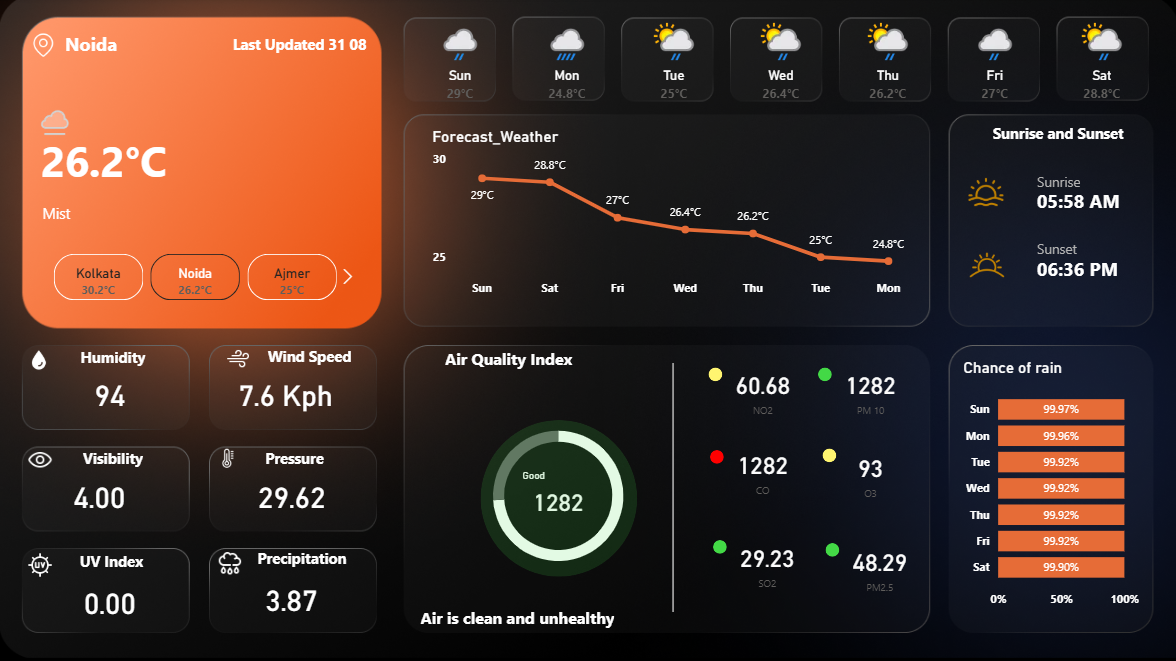

The dashboard page shown, as its layout file describes it:
{"tool":"powerbi","page":{"name":"Page 1","canvas":[1280,720],"ordinal":0},"visuals":[{"type":"advancedSlicerVisual","fields":{"Values":["Loaction.location.name"]},"box":[34.2,273.3,359.5,60.2],"z":0},{"type":"shape","box":[45.5,135,203.3,84.6],"z":1000},{"type":"shape","box":[47.2,219.6,201.7,27.7],"z":2000},{"type":"shape","box":[71.6,29.3,128.5,42.3],"z":3000},{"type":"shape","box":[242.4,32.5,156.1,35.8],"z":4000},{"type":"cardVisual","fields":{"Data":["Min(current_table.current.condition.icon)"]},"box":[17.9,94.3,89.5,79.7],"z":5000},{"type":"image","box":[26,34.2,43.9,35.8],"z":6000},{"type":"image","box":[232.6,479.8,30.9,40.7],"z":7000},{"type":"image","box":[19.5,481.5,50.4,40.7],"z":8000},{"type":"image","box":[19.5,377.4,47.2,32.5],"z":9000},{"type":"image","box":[226.1,593.7,48.8,40.7],"z":10000},{"type":"image","box":[19.5,596.9,50.4,37.4],"z":11000},{"type":"image","box":[232.6,374.1,53.7,35.8],"z":12000},{"type":"shape","box":[45.5,372.5,156.1,35.8],"z":13000},{"type":"shape","box":[250.5,590.4,156.1,35.8],"z":14000},{"type":"shape","box":[43.9,593.7,156.1,35.8],"z":15000},{"type":"shape","box":[242.4,481.5,156.1,35.8],"z":16000},{"type":"shape","box":[45.5,481.5,156.1,35.8],"z":17000},{"type":"shape","box":[258.6,370.9,156.1,35.8],"z":18000},{"type":"cardVisual","fields":{"Data":["Sum(current_table.current.humidity)"]},"box":[86.2,388.7,71.6,74.8],"z":19000},{"type":"cardVisual","fields":{"Data":["Measure.Wind_Speed"]},"box":[242.4,388.7,183.8,74.8],"z":20000},{"type":"cardVisual","fields":{"Data":["Sum(current_table.current.pressure_in)"]},"box":[263.5,499.3,109,74.8],"z":21000},{"type":"cardVisual","fields":{"Data":["Sum(current_table.current.vis_km)"]},"box":[63.4,499.3,109,74.8],"z":22000},{"type":"cardVisual","fields":{"Data":["Sum(current_table.current.uv)"]},"box":[74.8,614.8,94.3,74.8],"z":23000},{"type":"cardVisual","fields":{"Data":["Sum(current_table.current.precip_mm)"]},"box":[271.6,611.6,97.6,74.8],"z":24000},{"type":"advancedSlicerVisual","fields":{"Values":["forecast_table.Day_Name"]},"box":[440,15,820,120],"z":25000},{"type":"lineChart","title":"Forecast_Weather","fields":{"Y":["Sum(forecast_table.forecast.forecastday.day.avgtemp_c)"],"Category":["forecast_table.Day_Name"]},"box":[465,141.7,533.3,191.7],"z":26000},{"type":"shape","box":[1070,130,156.7,35],"z":27000},{"type":"shape","box":[1125,193.3,116.7,55],"z":28000},{"type":"shape","box":[1125,266.7,116.7,55],"z":29000},{"type":"shape","box":[1125,176.7,116.7,45],"z":30000},{"type":"shape","box":[1125,250,116.7,45],"z":31000},{"type":"image","box":[1046.7,183.3,48.3,55],"z":32000},{"type":"image","box":[1041.7,260,60,60],"z":33000},{"type":"hundredPercentStackedBarChart","title":"Chance of rain","fields":{"Y":["Measure.Left_Value_Rain","Sum(forecast.forecast.forecastday.day.daily_chance_of_rain)"],"Category":["forecast_table.Day_Name"]},"box":[1041.7,391.7,200,278.3],"z":34000},{"type":"shape","box":[465,373.3,175,35],"z":35000},{"type":"card","title":"PM 10","fields":{"Values":["Sum(current_table.current.air_quality.co)"]},"box":[891.7,383.3,106.7,86.7],"z":36000},{"type":"card","title":"O3","fields":{"Values":["Sum(current_table.current.air_quality.o3)"]},"box":[891.7,473.3,106.7,86.7],"z":37000},{"type":"card","title":"PM 2.5","fields":{"Values":["Sum(current_table.current.air_quality.pm2_5)"]},"box":[891.7,575,126.7,86.7],"z":38000},{"type":"card","title":"SO2","fields":{"Values":["Sum(current_table.current.air_quality.so2)"]},"box":[770,571.7,126.7,86.7],"z":39000},{"type":"card","title":"CO","fields":{"Values":["Sum(current_table.current.air_quality.co)"]},"box":[765,470,126.7,86.7],"z":40000},{"type":"card","title":"NO2","fields":{"Values":["Sum(current_table.current.air_quality.no2)"]},"box":[765,383.3,126.7,86.7],"z":41000},{"type":"shape","box":[770,401.7,15,15],"z":42000},{"type":"shape","box":[771.7,491.7,15,15],"z":43000},{"type":"shape","box":[775,588.3,15,15],"z":44000},{"type":"shape","box":[888.3,401.7,15,15],"z":45000},{"type":"shape","box":[893.3,490,15,15],"z":46000},{"type":"shape","box":[896.7,591.7,15,15],"z":47000},{"type":"donutChart","title":"PM 10","fields":{"Y":["Sum(current_table.current.air_quality.co)","Measure.Left_value_PM10"]},"box":[465,446.7,281.7,186.7],"z":48000},{"type":"card","fields":{"Values":["Sum(current_table.current.air_quality.co)"]},"box":[563.3,511.7,86.7,56.7],"z":49000},{"type":"shape","box":[521.7,458.3,170,170],"z":50000},{"type":"shape","box":[705,396.7,53.3,270],"z":51000},{"type":"shape","box":[456.7,655,300,35],"z":51001}]}

Visuals, with their boxes in screenshot pixels (x1, y1, x2, y2), scaled from the page's 1280x720 canvas onto the 1176x661 screenshot:
advancedSlicerVisual - Loaction.location.name: 31/251/362/306
shape: 42/124/229/202
shape: 43/202/229/227
shape: 66/27/184/66
shape: 223/30/366/63
cardVisual - Min(current_table.current.condition.icon): 16/87/99/160
image: 24/31/64/64
image: 214/440/242/478
image: 18/442/64/479
image: 18/346/61/376
image: 208/545/253/582
image: 18/548/64/582
image: 214/343/263/376
shape: 42/342/185/375
shape: 230/542/374/575
shape: 40/545/184/578
shape: 223/442/366/475
shape: 42/442/185/475
shape: 238/341/381/373
cardVisual - Sum(current_table.current.humidity): 79/357/145/426
cardVisual - Measure.Wind_Speed: 223/357/392/426
cardVisual - Sum(current_table.current.pressure_in): 242/458/342/527
cardVisual - Sum(current_table.current.vis_km): 58/458/158/527
cardVisual - Sum(current_table.current.uv): 69/564/155/633
cardVisual - Sum(current_table.current.precip_mm): 250/561/339/630
advancedSlicerVisual - forecast_table.Day_Name: 404/14/1158/124
"Forecast_Weather" lineChart: 427/130/917/306
shape: 983/119/1127/151
shape: 1034/177/1141/228
shape: 1034/245/1141/295
shape: 1034/162/1141/204
shape: 1034/230/1141/271
image: 962/168/1006/219
image: 957/239/1012/294
"Chance of rain" hundredPercentStackedBarChart: 957/360/1141/615
shape: 427/343/588/375
"PM 10" card: 819/352/917/431
"O3" card: 819/435/917/514
"PM 2.5" card: 819/528/936/607
"SO2" card: 707/525/824/604
"CO" card: 703/431/819/511
"NO2" card: 703/352/819/431
shape: 707/369/721/383
shape: 709/451/723/465
shape: 712/540/726/554
shape: 816/369/830/383
shape: 821/450/835/464
shape: 824/543/838/557
"PM 10" donutChart: 427/410/686/581
card - Sum(current_table.current.air_quality.co): 518/470/597/522
shape: 479/421/635/577
shape: 648/364/697/612
shape: 420/601/695/633
